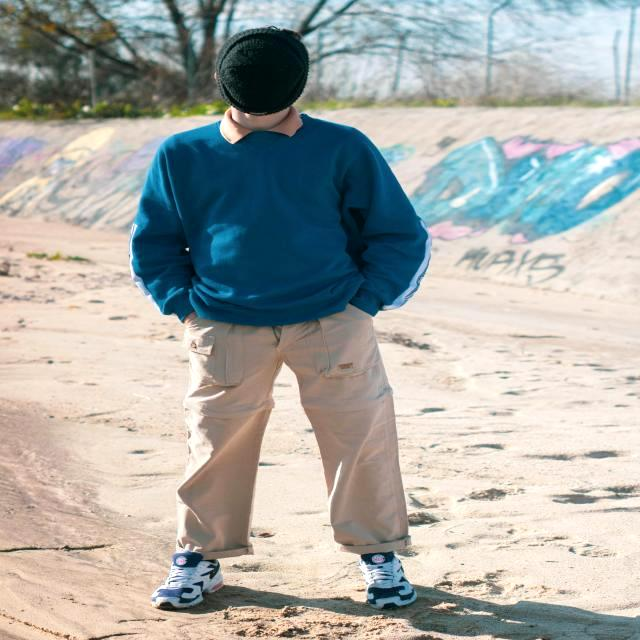no_hard_hat: (216, 26, 309, 115)
person: (131, 27, 431, 608)
